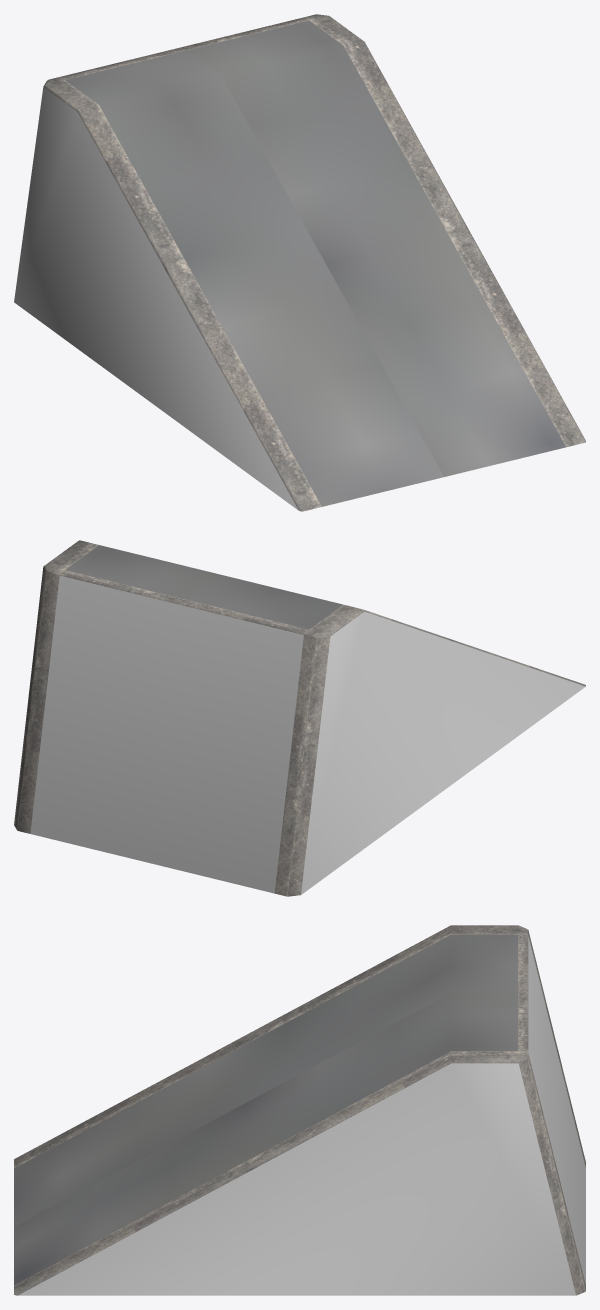
Rendered from JpHouseJ_StoneWall_slope11.fbx.
3 views of the same model, one above another, from view 1: azimuth 30°, elevation 25°; view 2: azimuth 150°, elevation 25°; view 3: azimuth 270°, elevation 25° (orthographic).
Parts seen in each view (by area): view 1: JpHouseJ_StoneWall_slope11; view 2: JpHouseJ_StoneWall_slope11; view 3: JpHouseJ_StoneWall_slope11.
Part boxes in pixels (x1,y1,x2,y2): JpHouseJ_StoneWall_slope11: (14,14,585,511); JpHouseJ_StoneWall_slope11: (14,540,585,896); JpHouseJ_StoneWall_slope11: (14,925,585,1295).
Bounding box in the file's own units: 2.28 × 1.81 × 4.01.
